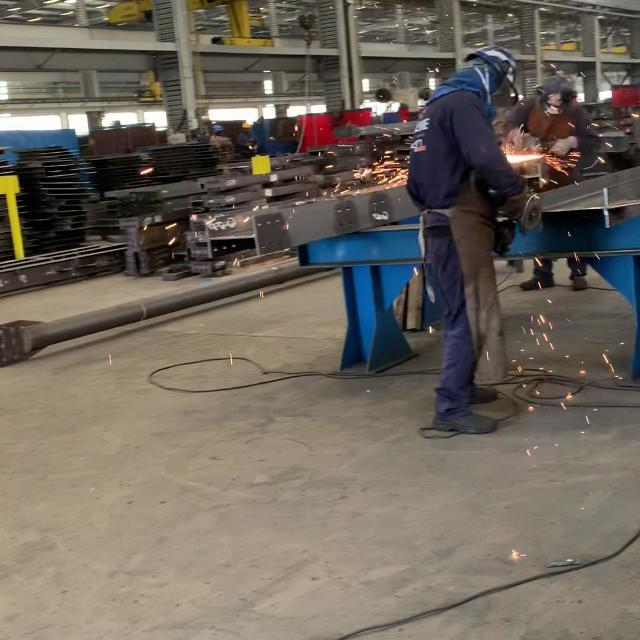eye-glass: (487, 84, 539, 147)
face-shield: (520, 196, 543, 236)
glove: (459, 48, 519, 79)
mask: (405, 48, 545, 435)
safety-shoe: (428, 409, 501, 437), (470, 382, 509, 402)
